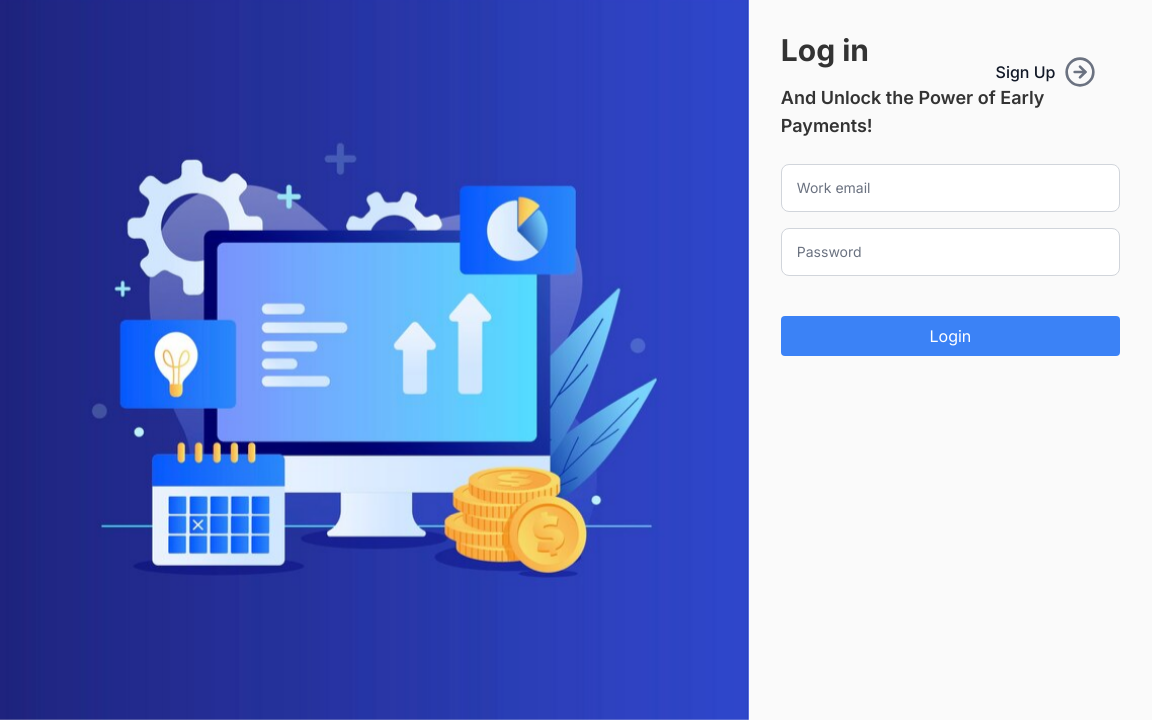
Scenario: LoginForm › displays validation errors for empty fields
The image size is (1152, 720).
Step 1. Click the button "Login" → (950, 336), box [781,316,1120,356]
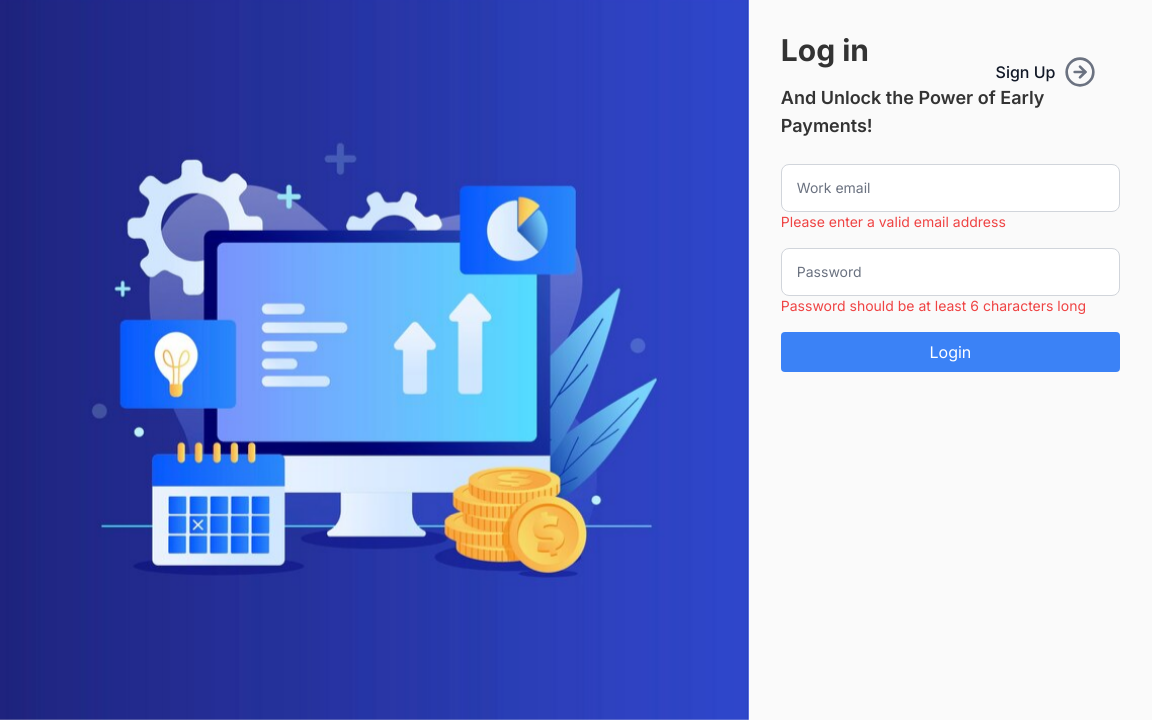
Check: the text "Please enter a valid email address" is shown, box [781,213,1006,230]
Check: the text "Password should be at least 6 characters long" is shown, box [781,296,1120,316]
